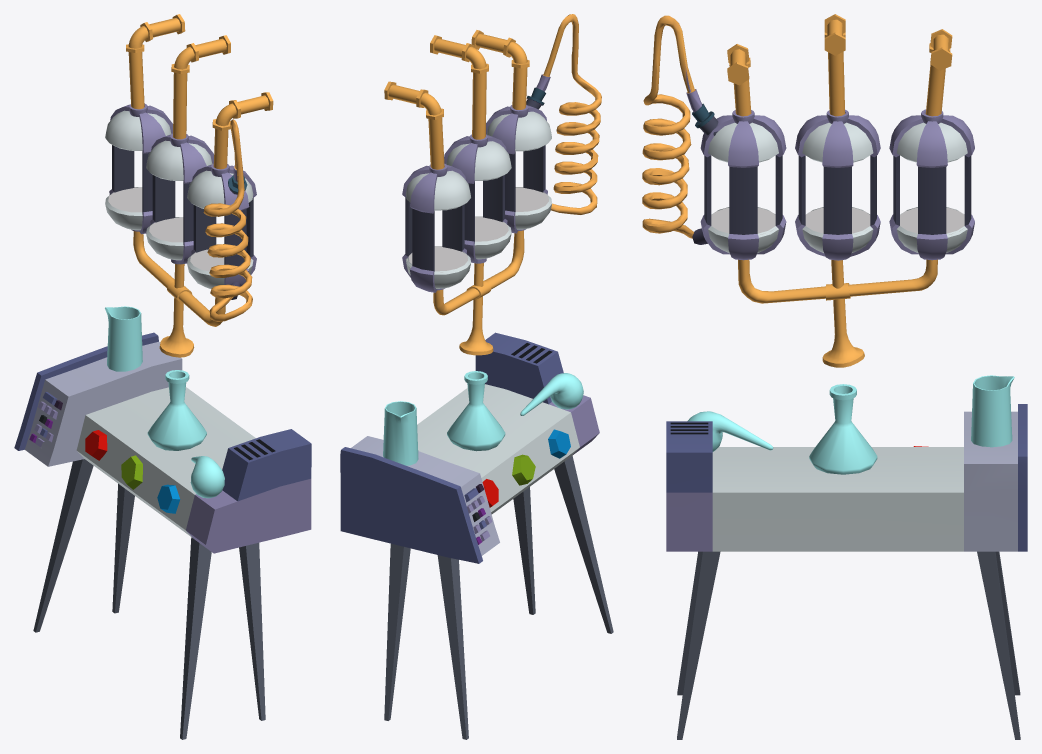
Rendered from chemistry_setup.fbx.
The picture shows the model from 3 angles, left to right: view 1: azimuth 30°, elevation 25°; view 2: azimuth 150°, elevation 25°; view 3: azimuth 270°, elevation 25°; orthographic projection. The views are drawn at different scales.
Parts seen in each view (by area): view 1: chemistry_setup; view 2: chemistry_setup; view 3: chemistry_setup.
Part boxes in pixels (x1,y1,x2,y2): chemistry_setup: (14, 14, 311, 739); chemistry_setup: (340, 14, 613, 739); chemistry_setup: (642, 14, 1027, 739).
Bounding box in the file's own units: 301 × 1283 × 620.
